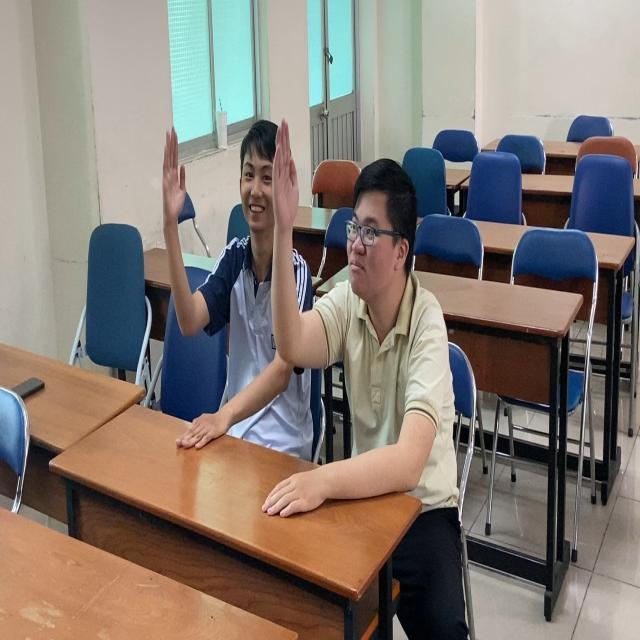raise_hand: (265, 109, 454, 536)
